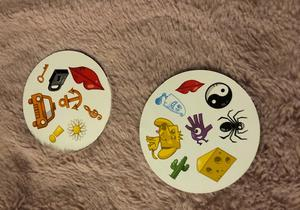ancre: (55, 86, 85, 114)
araignee: (214, 107, 254, 147)
bouche: (65, 65, 103, 91), (172, 77, 205, 96)
cactus: (167, 152, 190, 181)
cadenas: (45, 68, 70, 92)
chien: (146, 116, 184, 159)
cle: (36, 62, 51, 84)
dooble: (183, 112, 213, 145)
fantome: (152, 90, 186, 118)
fleur: (65, 118, 89, 142)
fromage: (193, 146, 238, 182)
note: (80, 101, 103, 123)
point_exclamation: (48, 124, 65, 144)
voiture: (27, 92, 58, 130)
ying_yang: (203, 82, 234, 111)
